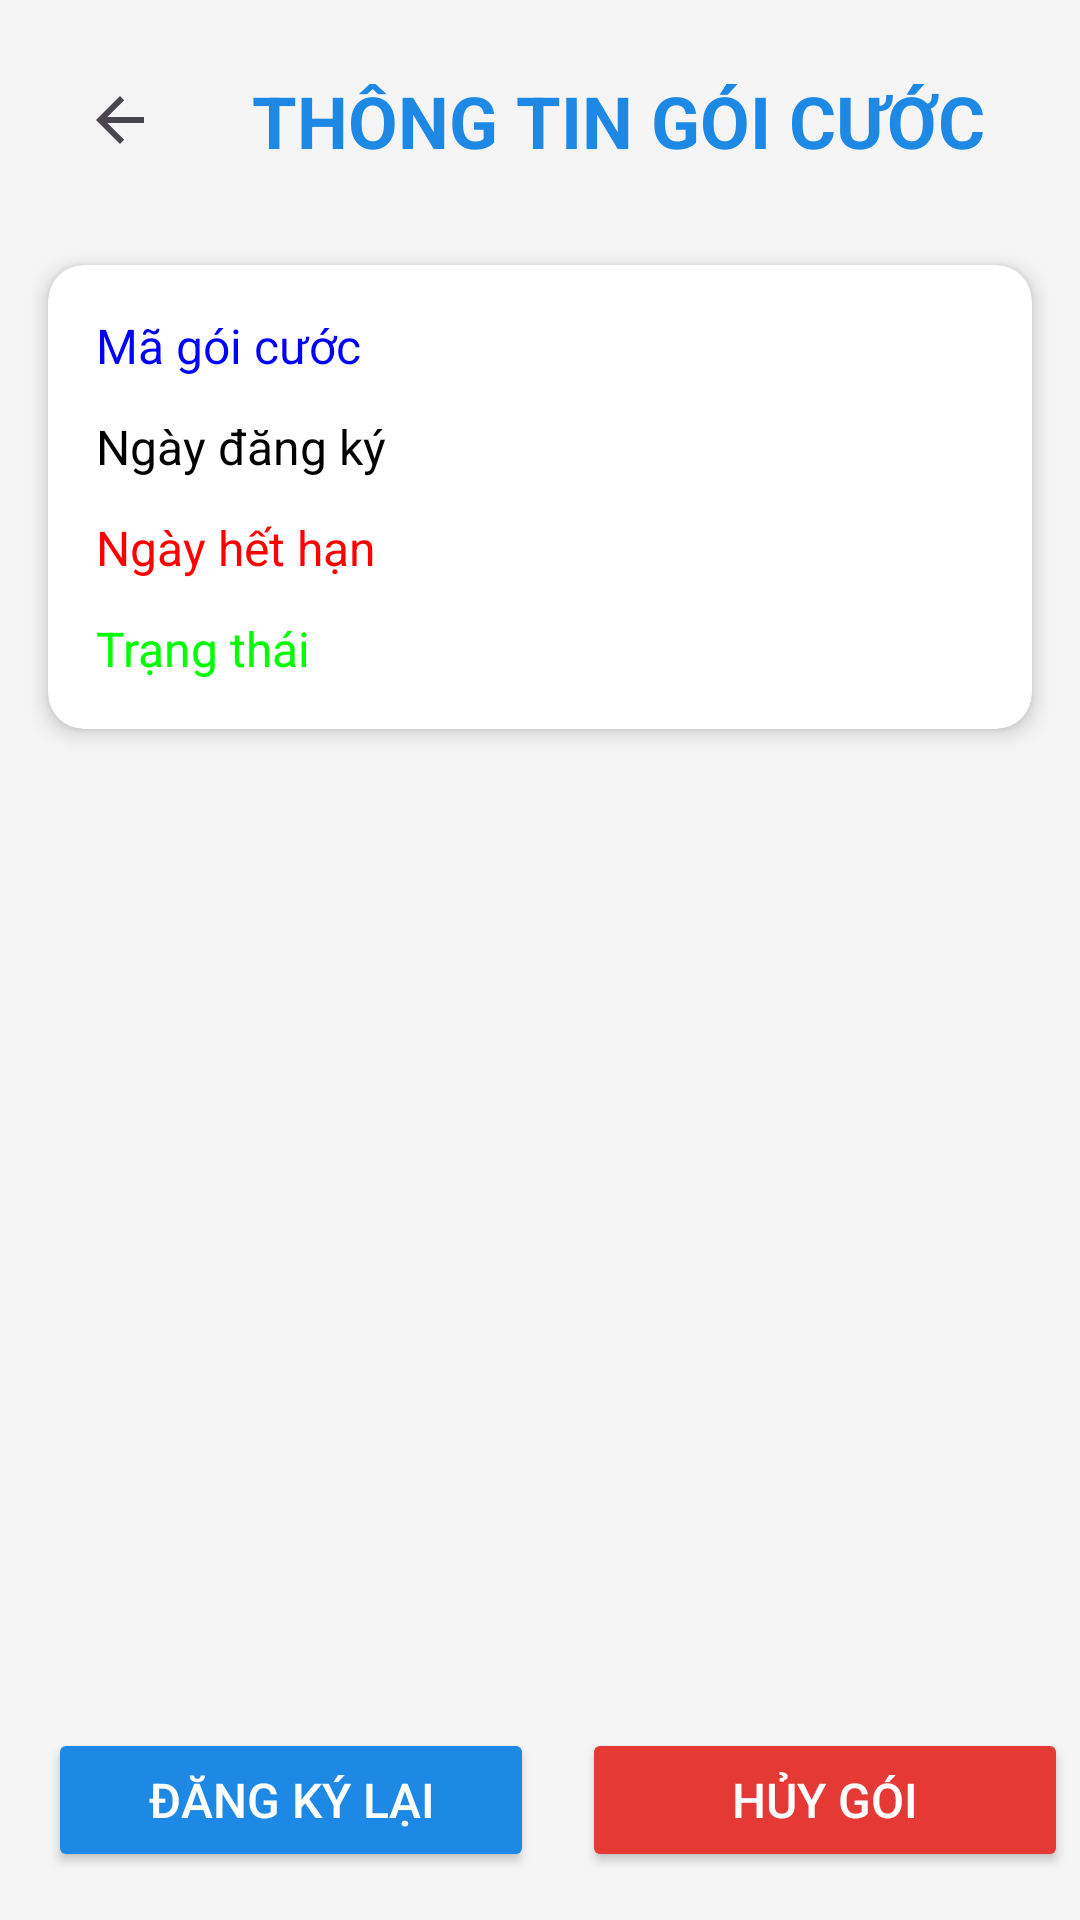

Point at icon controls on the screen. Image size 1080*1920, points as (x=x, y=y).
Nút quay lại: (x=120, y=120)
